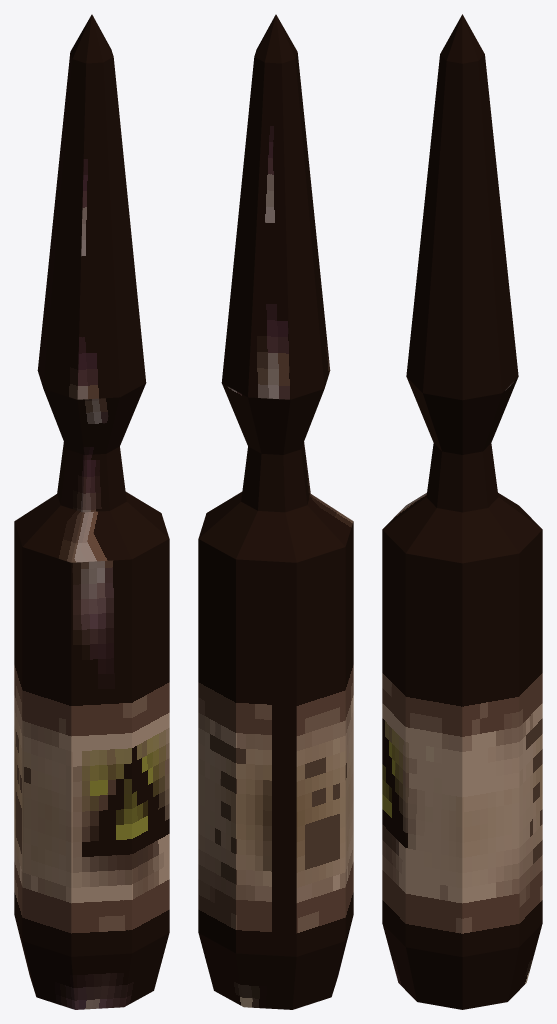
Rendered from Ampoule.glb.
3 views of the same model, side by side, from view 1: azimuth 30°, elevation 25°; view 2: azimuth 150°, elevation 25°; view 3: azimuth 270°, elevation 25° (orthographic).
Visible parts, largest first — view 1: Ampoule; view 2: Ampoule; view 3: Ampoule.
Part boxes in pixels (left/top/right/bottom): Ampoule: left=14, top=14, right=169, bottom=1009; Ampoule: left=198, top=14, right=353, bottom=1009; Ampoule: left=382, top=14, right=542, bottom=1009.
Bounding box in the file's own units: 0.0183 × 0.1219 × 0.0183.
Materials: 1 (1 with a texture image).
